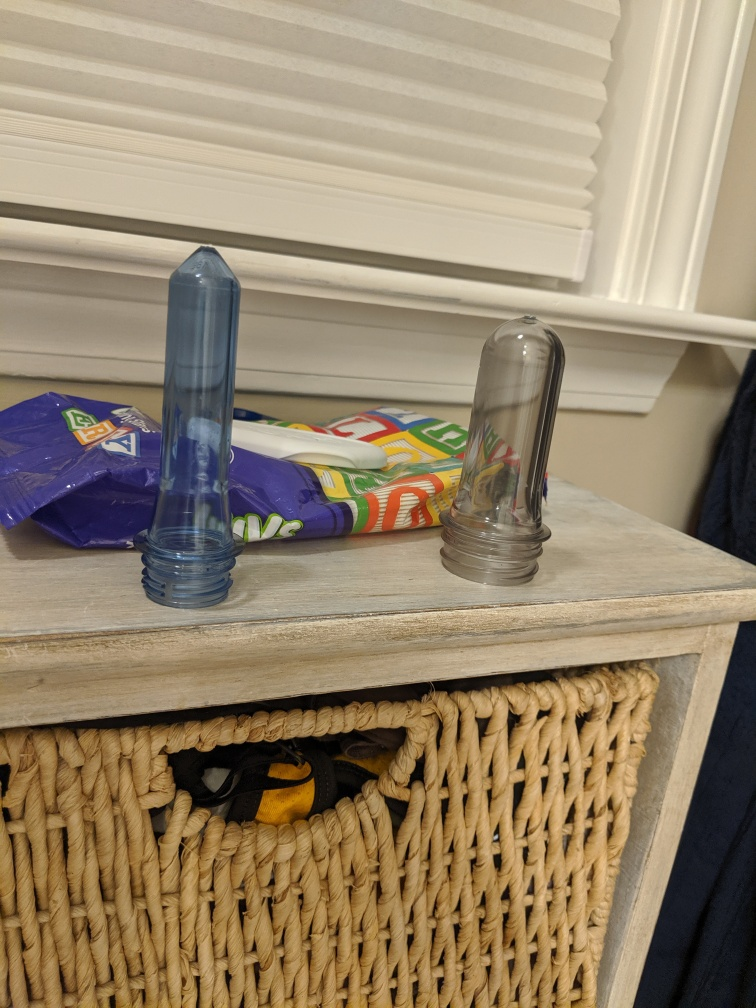preform: (133, 240, 249, 615), (433, 307, 575, 594)
